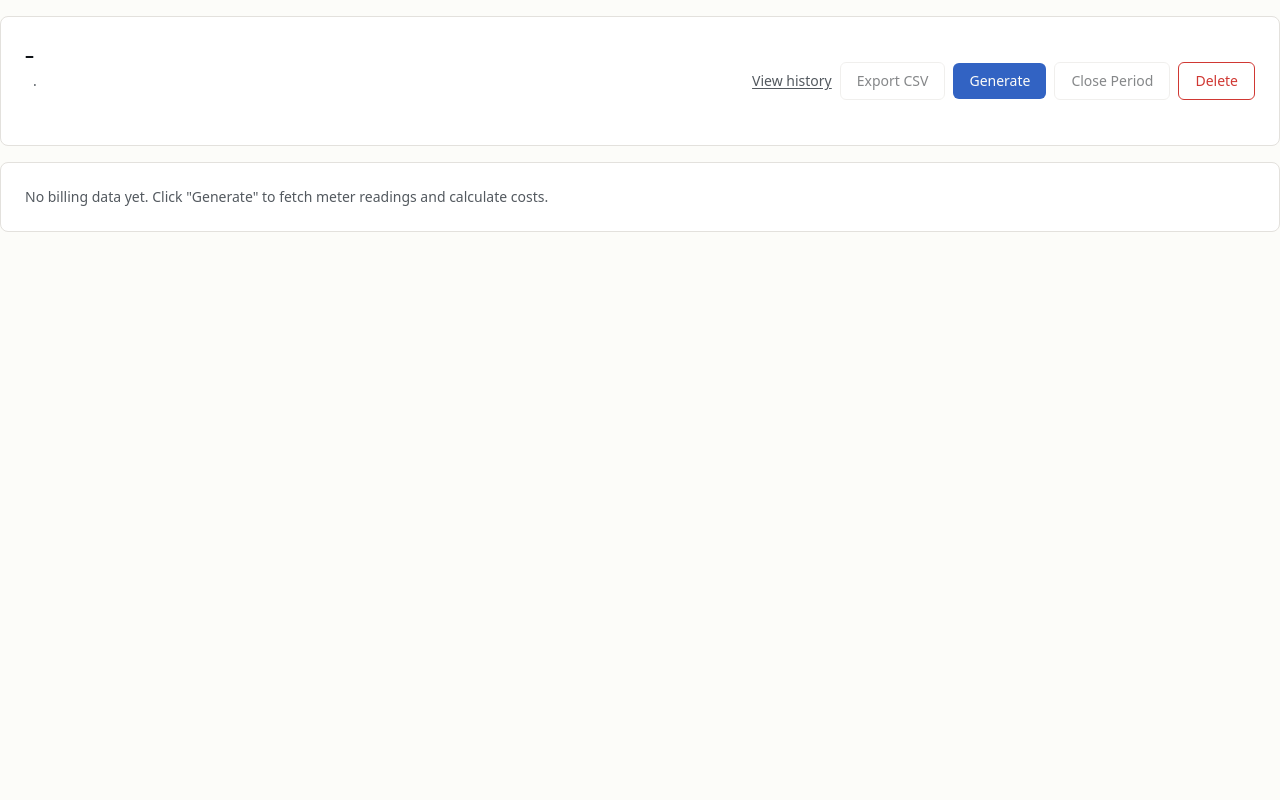
it: BillingTable BC3 — Generate button opens pre-flight panel (AC5) › clicking Generate (no line items) mounts the pre-flight panel
What coordinates should you click on to do the following:
click the button "Generate"
I would click on:
 (1000, 81)
Its box is [954,63,1046,99].
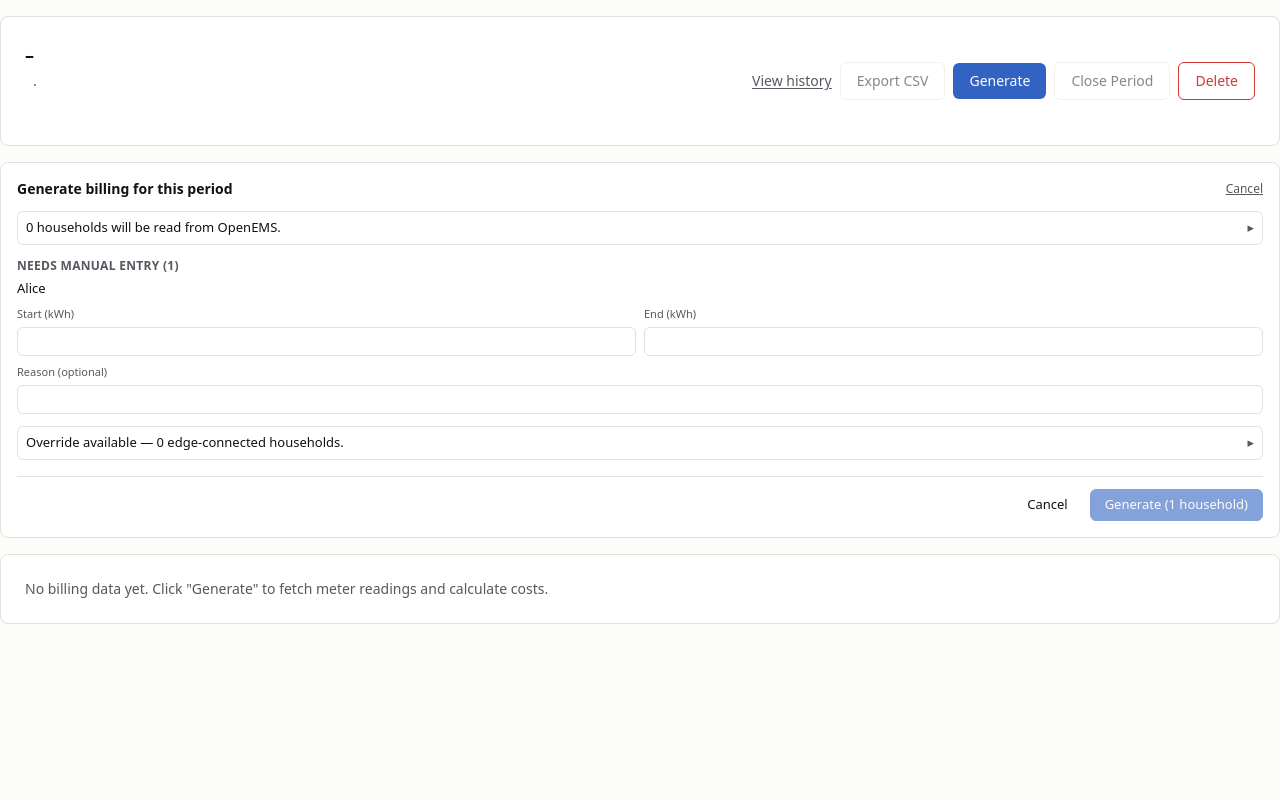
Result: the element with test id "preflight-panel" is shown at [0,162,1279,538]
